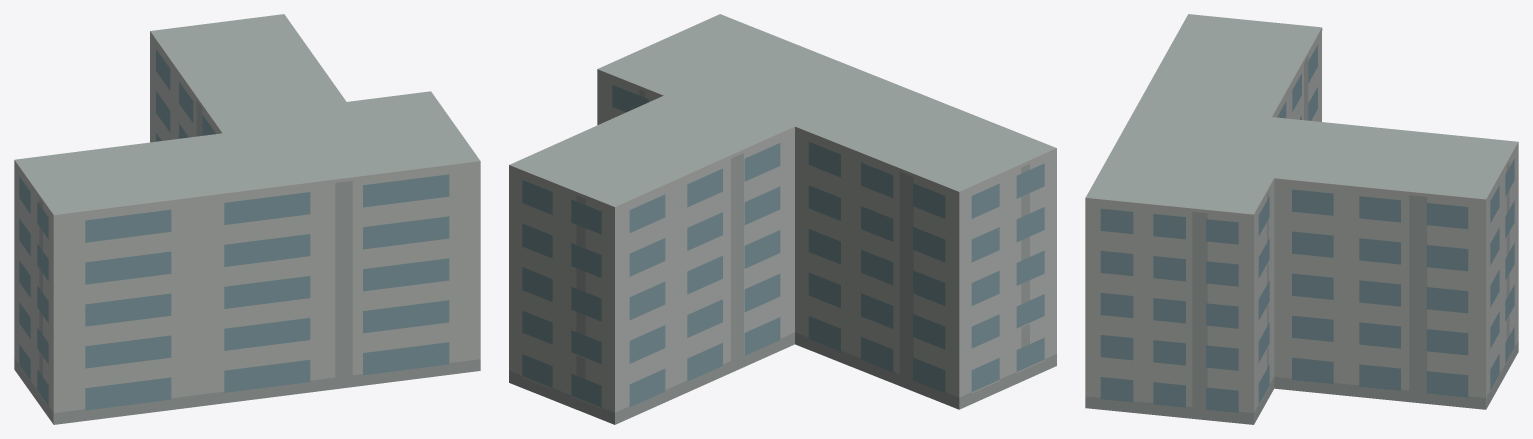
The model's file is residential-0526ac23-4cbd-41ab-b6e6-32881fae391d.glb.
The picture shows the model from 3 angles, left to right: view 1: azimuth 30°, elevation 25°; view 2: azimuth 150°, elevation 25°; view 3: azimuth 270°, elevation 25°; orthographic projection. The views are drawn at different scales.
Parts seen in each view (by area): view 1: residential-0526ac23-4cbd-41ab-b6e6-32881fae391d.tmp; view 2: residential-0526ac23-4cbd-41ab-b6e6-32881fae391d.tmp; view 3: residential-0526ac23-4cbd-41ab-b6e6-32881fae391d.tmp.
Boxes of the visible parts, x1,y1,x2,y2 form: residential-0526ac23-4cbd-41ab-b6e6-32881fae391d.tmp: (14, 14, 480, 424); residential-0526ac23-4cbd-41ab-b6e6-32881fae391d.tmp: (509, 14, 1056, 424); residential-0526ac23-4cbd-41ab-b6e6-32881fae391d.tmp: (1085, 14, 1518, 424).
Bounding box in the file's own units: 31.2 × 15.25 × 28.46.
